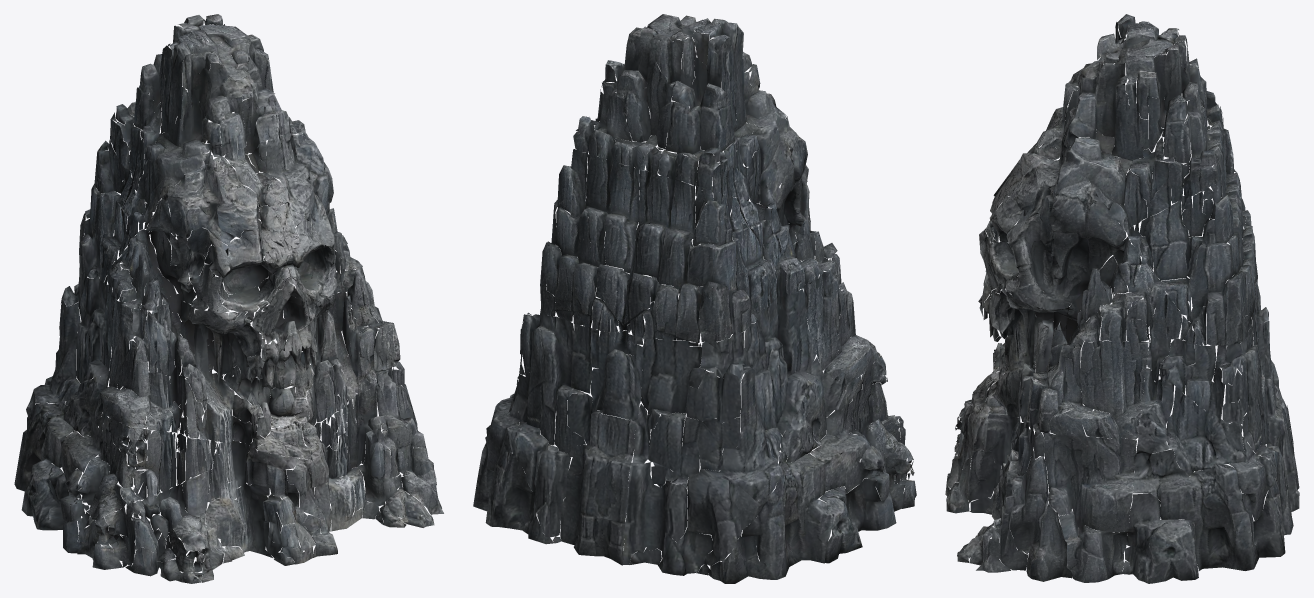
Rendered from skull-cliff.glb.
The picture shows the model from 3 angles, left to right: view 1: azimuth 30°, elevation 25°; view 2: azimuth 150°, elevation 25°; view 3: azimuth 270°, elevation 25°; orthographic projection. The views are drawn at different scales.
Parts seen in each view (by area): view 1: tripo_node_350ef508-8465-4cab-822e-462ade381cdc; view 2: tripo_node_350ef508-8465-4cab-822e-462ade381cdc; view 3: tripo_node_350ef508-8465-4cab-822e-462ade381cdc.
Part boxes in pixels (x1,y1,x2,y2): tripo_node_350ef508-8465-4cab-822e-462ade381cdc: [14, 14, 443, 583]; tripo_node_350ef508-8465-4cab-822e-462ade381cdc: [473, 14, 916, 583]; tripo_node_350ef508-8465-4cab-822e-462ade381cdc: [945, 14, 1299, 583].
Bounding box in the file's own units: 0.7744 × 0.9785 × 0.6765.
1 material, 1 textured.
